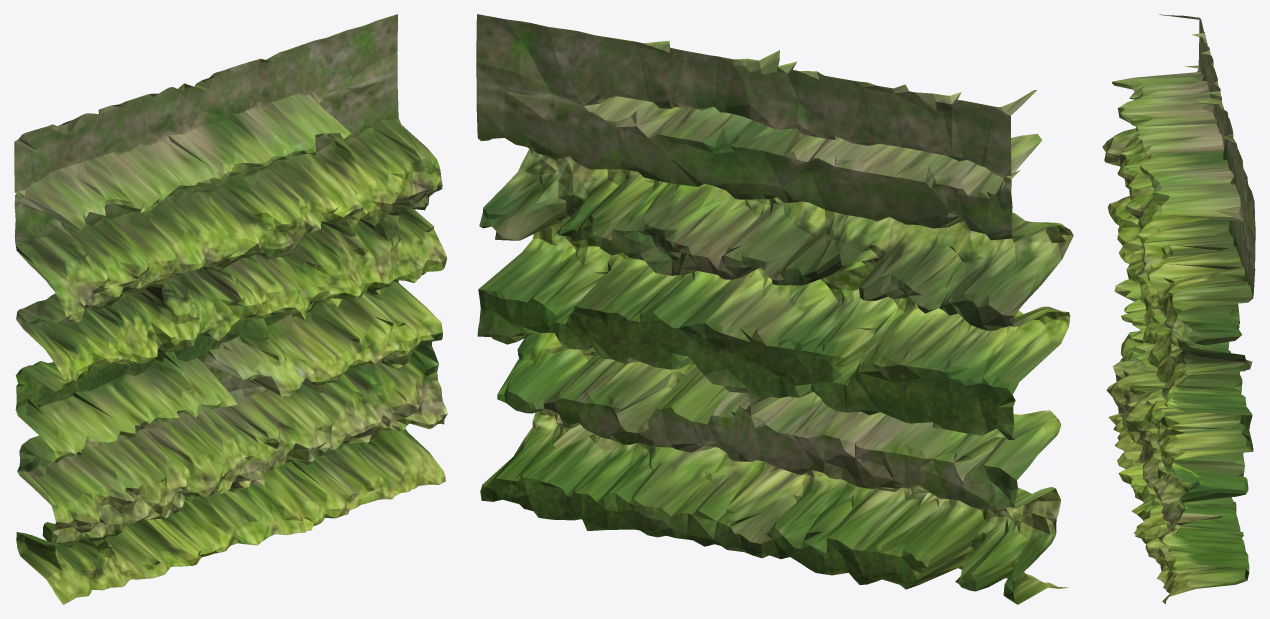
The model's file is map_50_20.obj.
3 renders of one model, left to right at view 1: azimuth 30°, elevation 25°; view 2: azimuth 150°, elevation 25°; view 3: azimuth 270°, elevation 25°, orthographic. The views are drawn at different scales.
Parts seen in each view (by area): view 1: grp1; view 2: grp1; view 3: grp1.
Part boxes in pixels (x1,y1,x2,y2): grp1: [14, 14, 447, 604]; grp1: [476, 14, 1073, 604]; grp1: [1102, 14, 1255, 604].
Bounding box in the file's own units: 10 × 10 × 3.45.
Materials: 1 (1 with a texture image).
